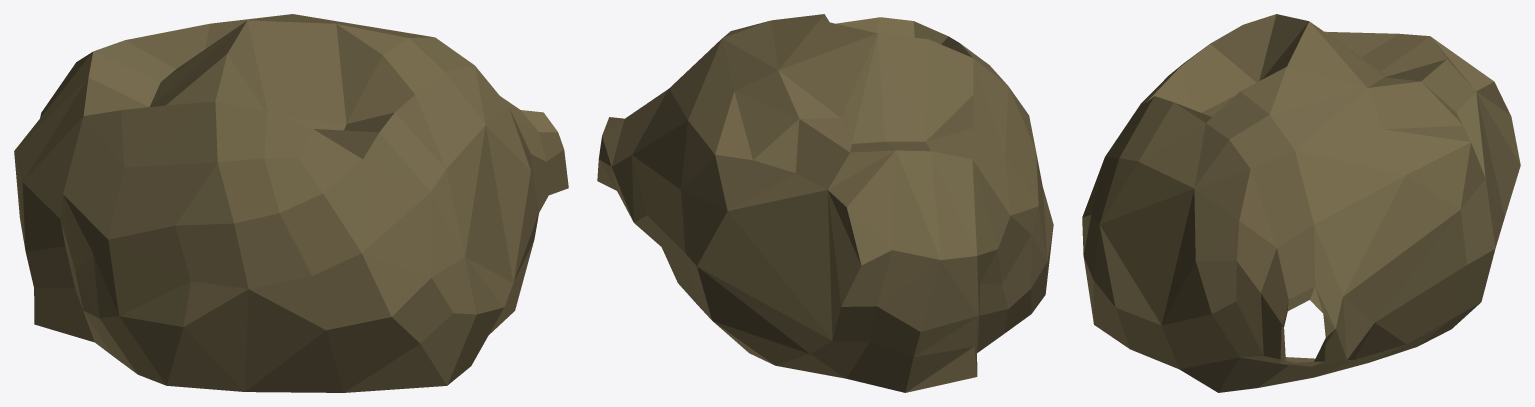
File: Dome-1exit-02.fbx
3 views of the same model, side by side, from view 1: azimuth 30°, elevation 25°; view 2: azimuth 150°, elevation 25°; view 3: azimuth 270°, elevation 25° (orthographic). The views are drawn at different scales.
Visible parts, largest first — view 1: Dome-1exit-02; view 2: Dome-1exit-02; view 3: Dome-1exit-02.
Boxes of the visible parts, bbox=[...] form: Dome-1exit-02: bbox=[14, 14, 568, 392]; Dome-1exit-02: bbox=[597, 14, 1053, 392]; Dome-1exit-02: bbox=[1082, 14, 1520, 392].
Size of the model in its own units: 1746 by 1958 by 1239.
